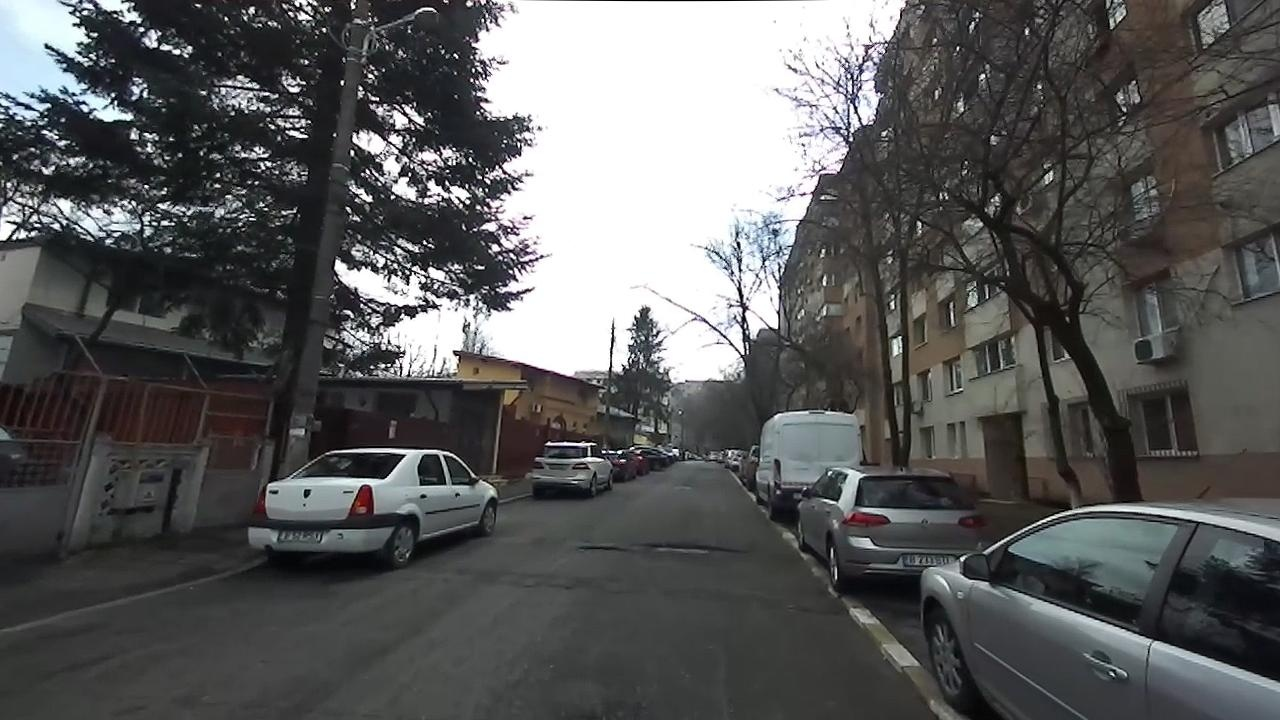pothole: (645, 541, 740, 556), (577, 542, 626, 553)
